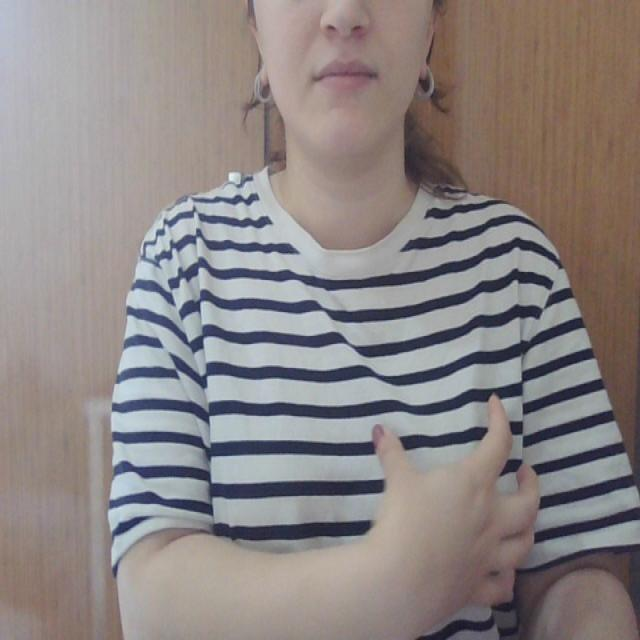Anne: (208, 392, 556, 604)
